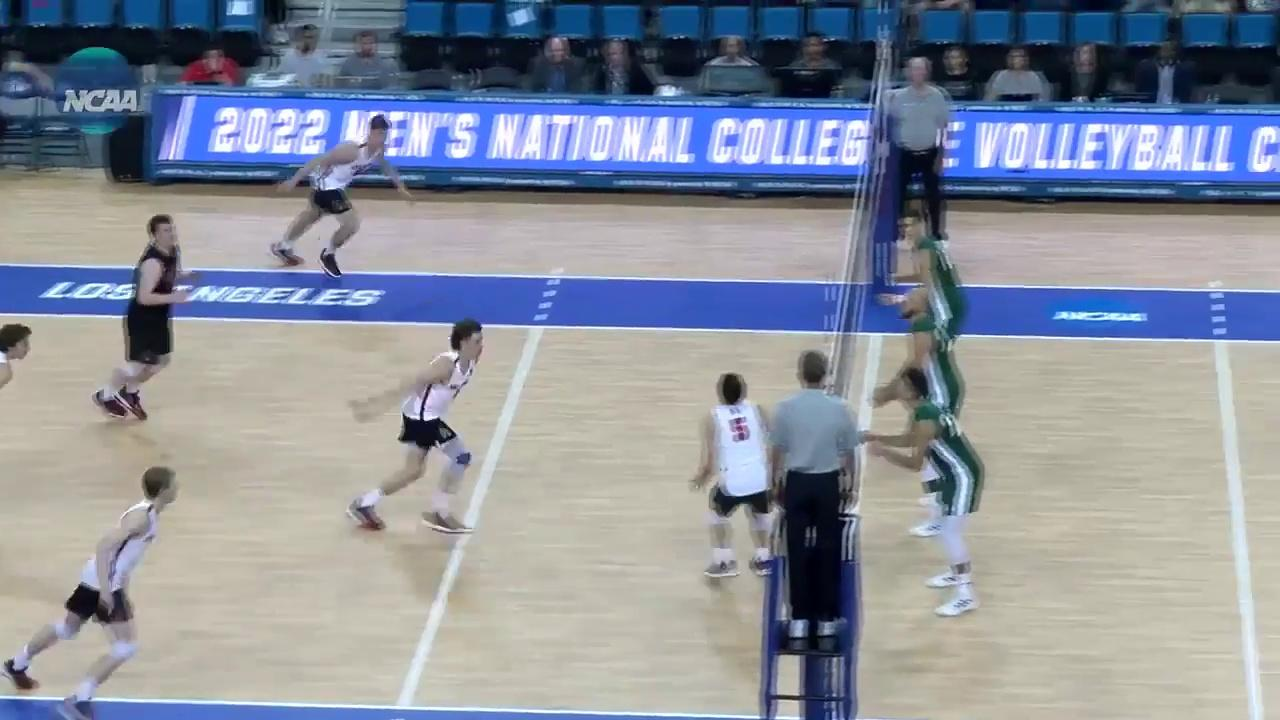player: (5, 464, 177, 718), (350, 318, 485, 533), (894, 367, 987, 620), (266, 115, 404, 282), (94, 213, 190, 427), (690, 371, 778, 579), (897, 289, 965, 541), (895, 212, 966, 414), (1, 316, 33, 449)
refree: (761, 352, 866, 625), (884, 57, 950, 271)
